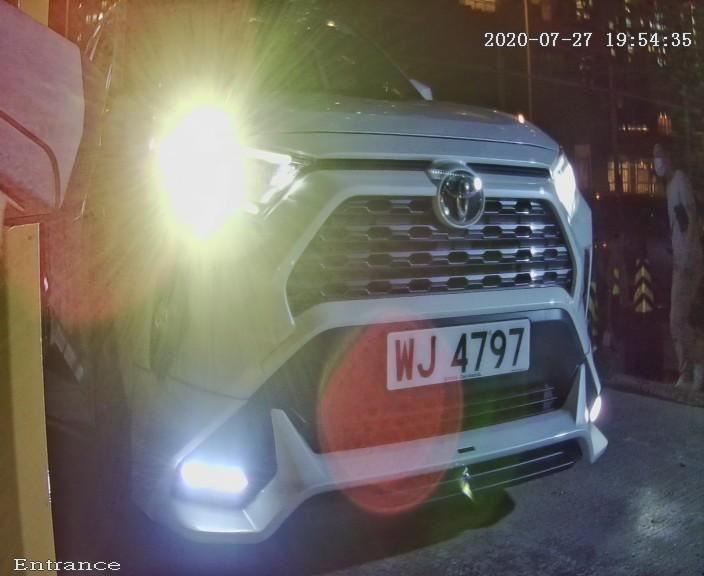privatecar: (89, 13, 657, 543)
